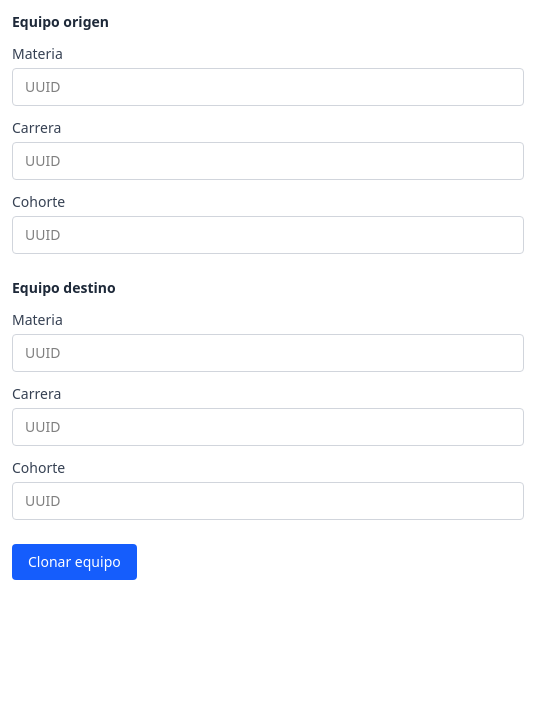
it: ClonarEquipoForm › 13.2a: shows validation error when origen fields are empty
Click the button "Clonar equipo": (74, 562) x1=12 y1=544 x2=137 y2=580
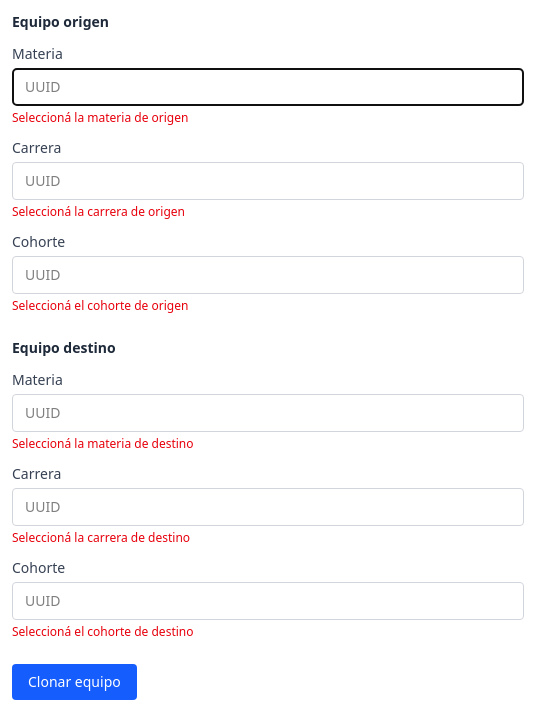
Expected: the text "Seleccioná la materia de origen" is shown, x1=12 y1=109 x2=188 y2=126
